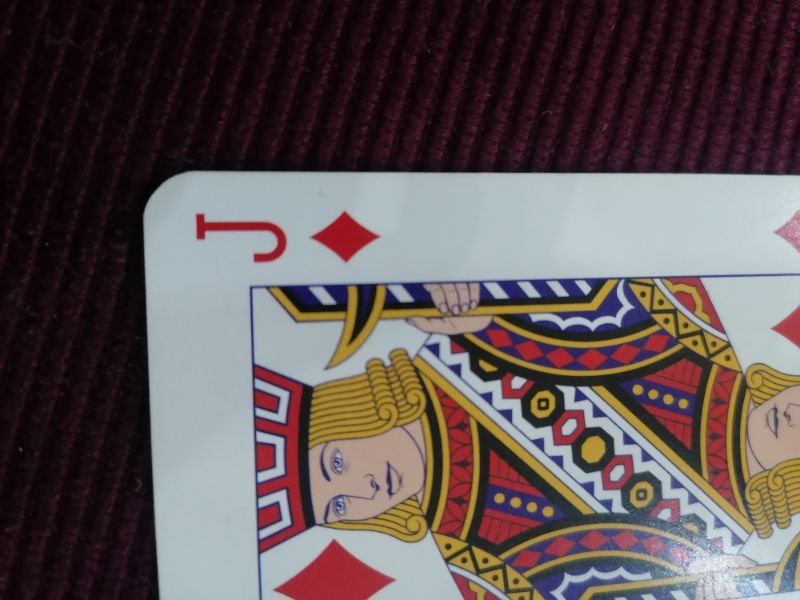Jd: (187, 208, 387, 266)
